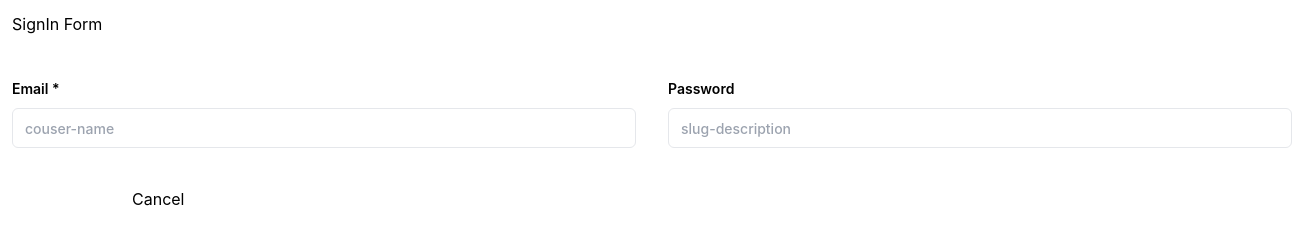
Test: SignInForm › displays validation errors for invalid inputs
Click the button with test id "submit-button" at (72, 200), box [12,180,132,220]
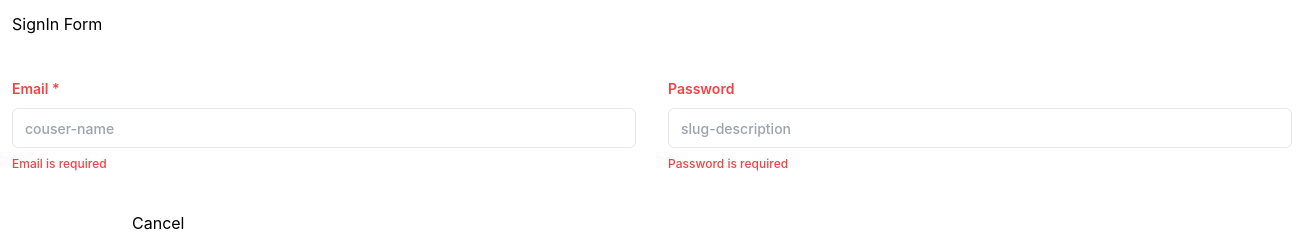
Check: the text "Email is required" is shown, box [12,156,107,171]
Check: the text "Password is required" is shown, box [668,156,788,171]
